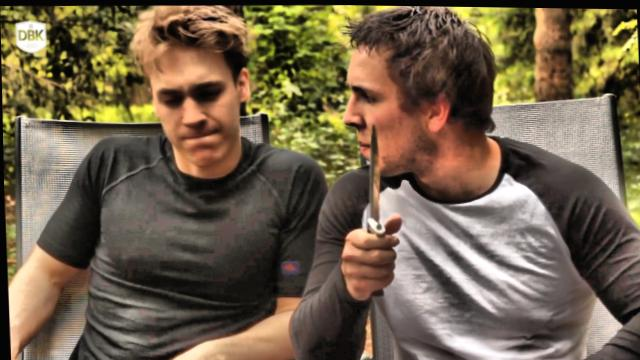knife: (344, 116, 407, 291)
